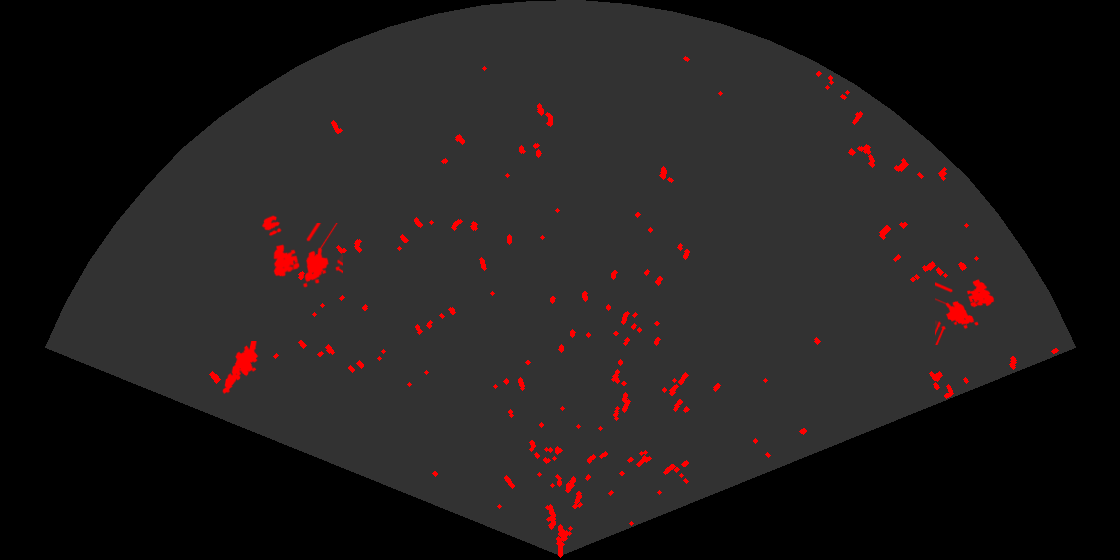ball: (260, 214, 283, 238)
cage: (272, 223, 343, 289), (935, 277, 996, 345)
frogman: (221, 341, 260, 396)
